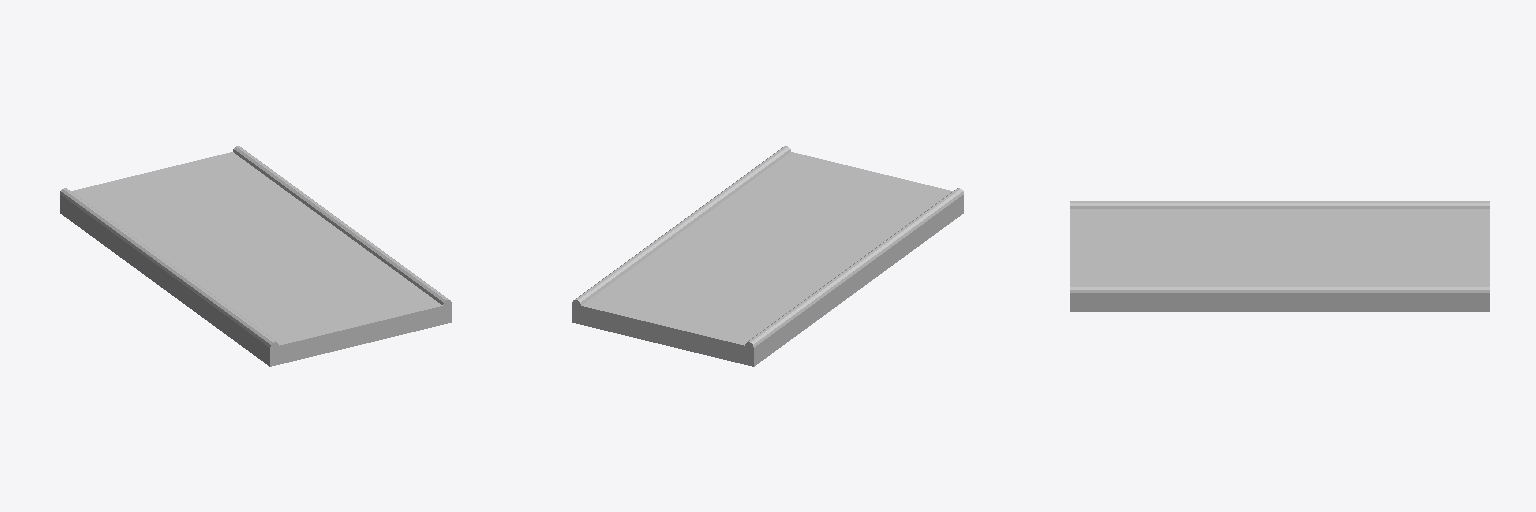
Rendered from Platform.obj.
3 views of the same model, side by side, from view 1: azimuth 30°, elevation 25°; view 2: azimuth 150°, elevation 25°; view 3: azimuth 270°, elevation 25° (orthographic).
Parts seen in each view (by area): view 1: Platform; view 2: Platform; view 3: Platform.
Boxes of the visible parts, <box> form: Platform: <box>60,146,451,366</box>; Platform: <box>572,146,963,366</box>; Platform: <box>1070,201,1489,311</box>.
Bounding box in the file's own units: 10 × 1.24 × 20.